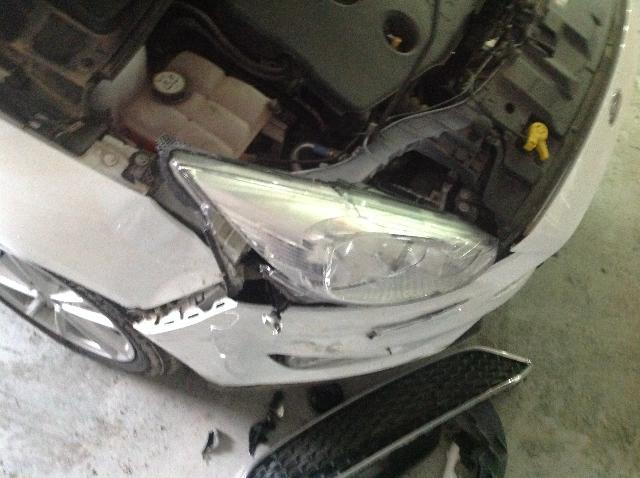crack: (262, 309, 286, 338), (365, 329, 380, 344), (386, 345, 393, 355)
dislocated part: (197, 199, 353, 315), (123, 277, 239, 343)
no part: (0, 1, 626, 244)
rub: (285, 337, 348, 357)
scratch: (374, 297, 472, 337)
